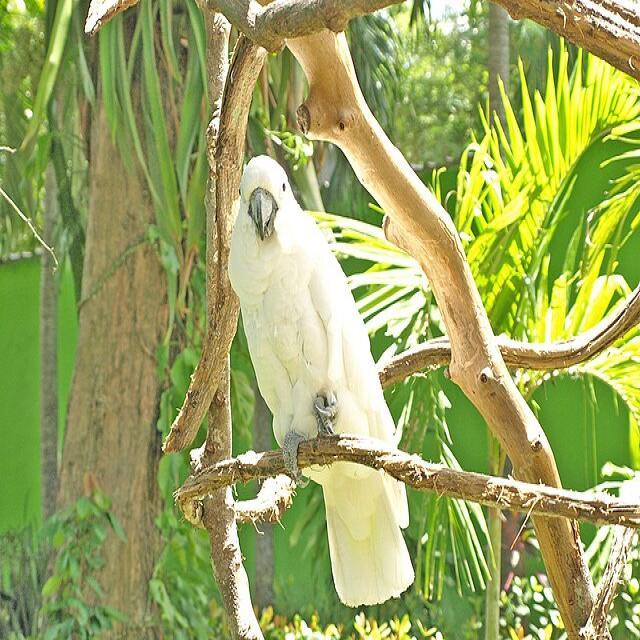Kakatua Putih: (215, 138, 427, 617)
